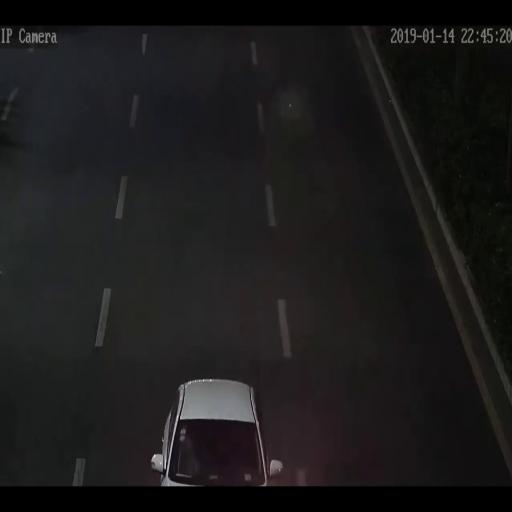Vehicle: (151, 379, 284, 487)
